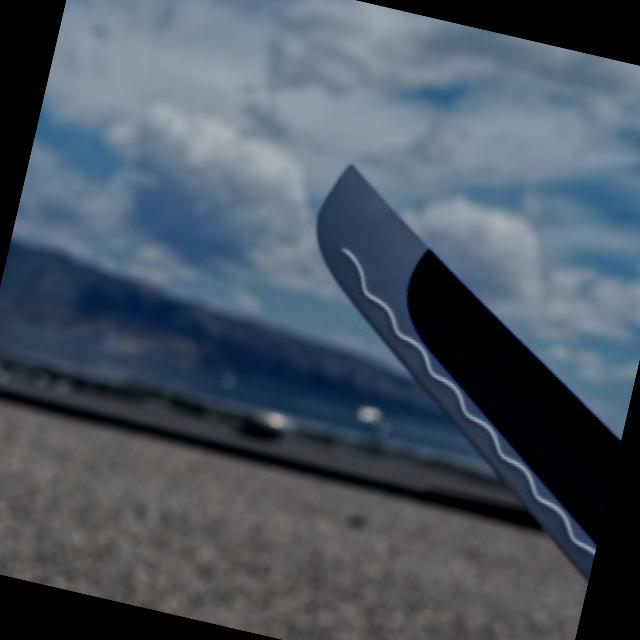healthy: (322, 163, 620, 577)
